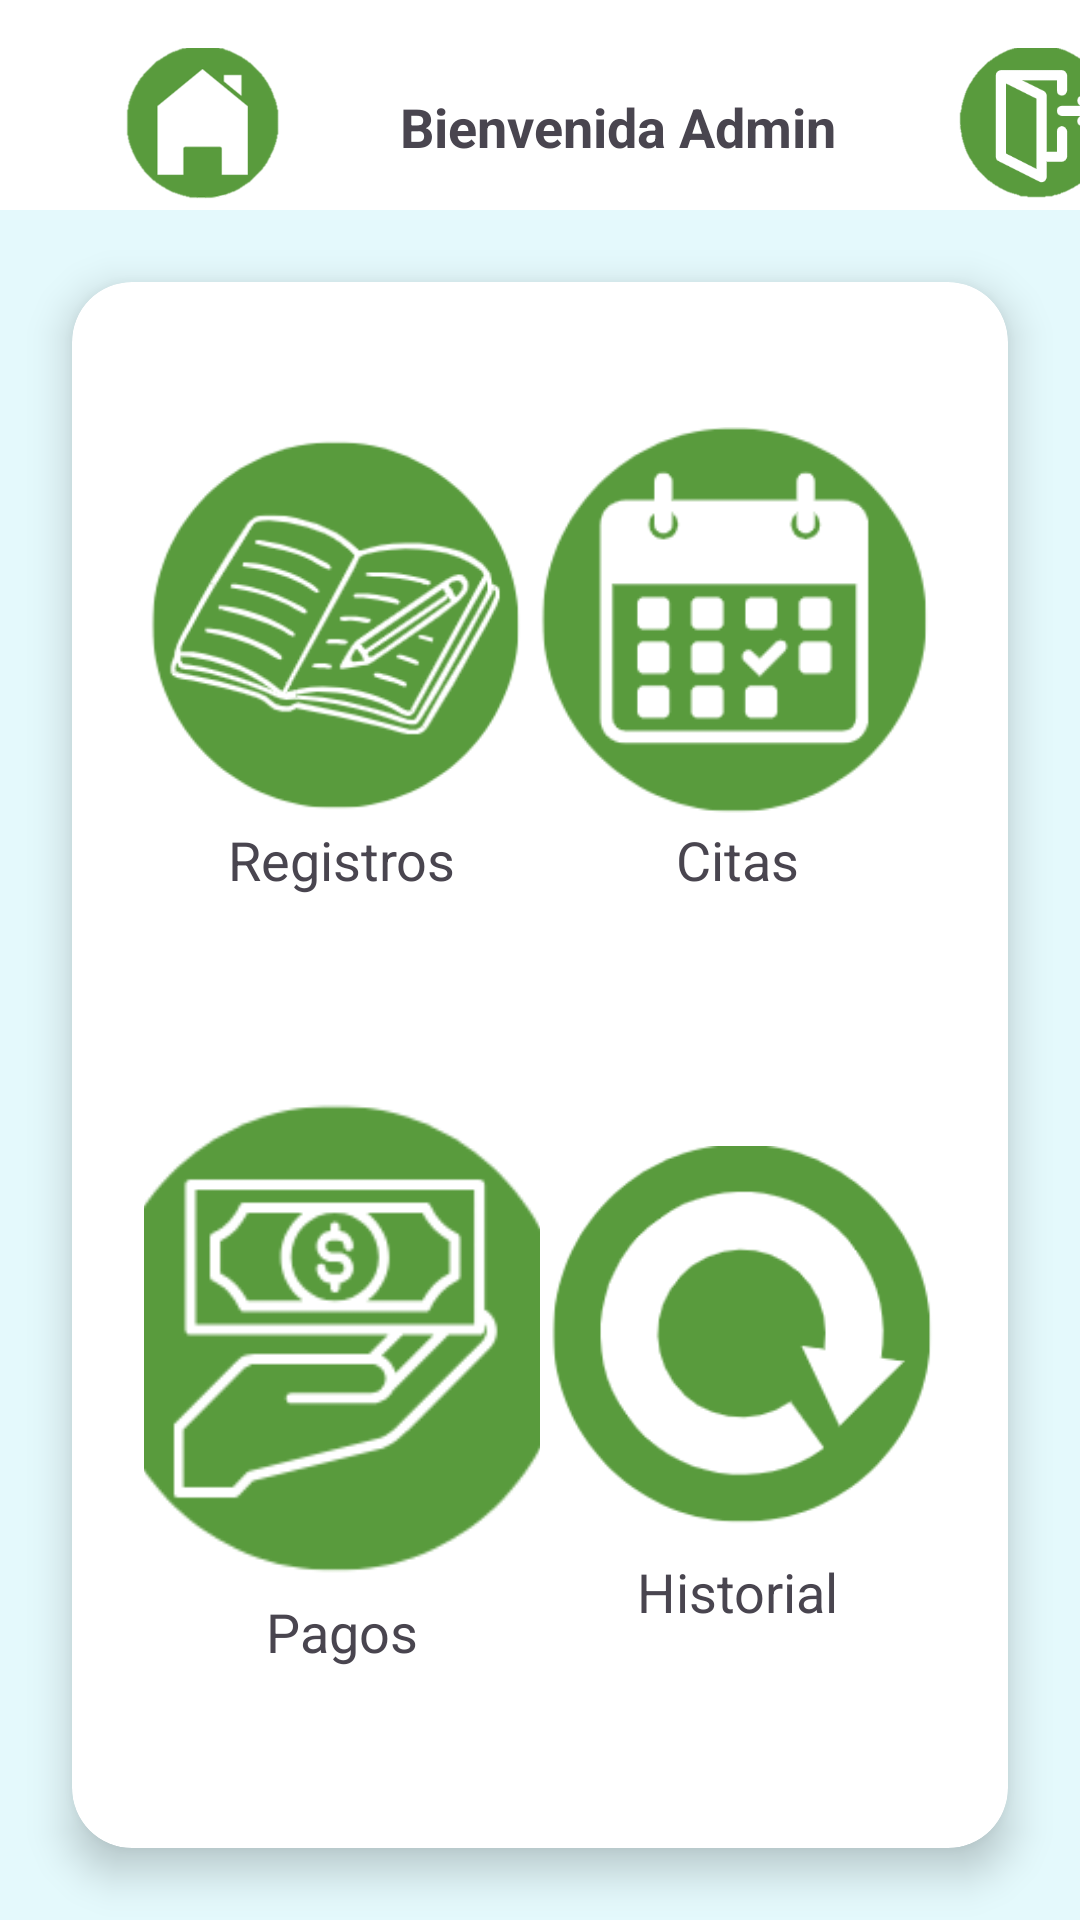

Where to tap for icons on this 1080x1920 app screen, as point (x, y):
casa sf: point (203, 123)
